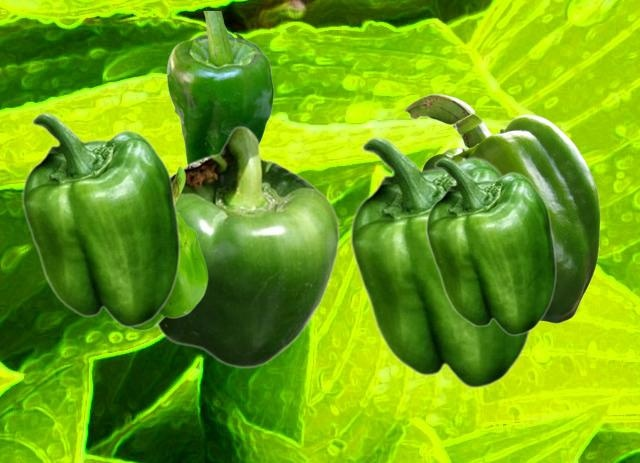bell_pepper: (349, 136, 531, 388), (404, 93, 599, 322), (157, 125, 339, 368), (21, 112, 180, 327), (425, 157, 556, 335), (166, 11, 273, 163), (130, 165, 207, 329)
